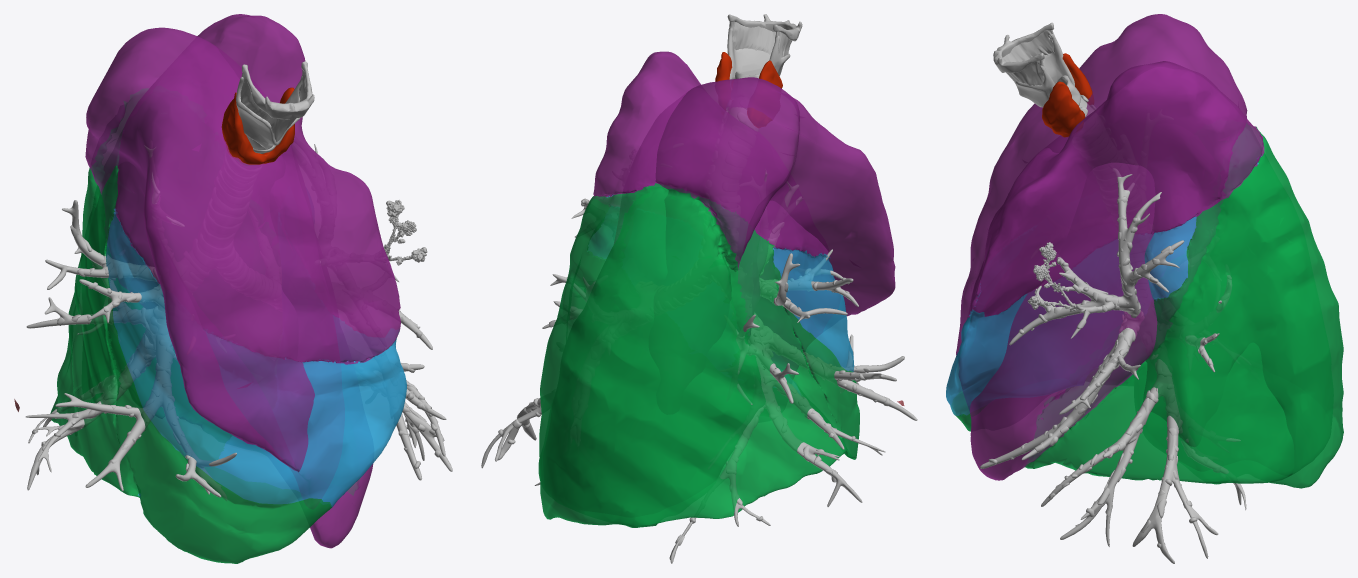
Rendered from inside-final.glb.
3 views of the same model, side by side, from view 1: azimuth 30°, elevation 25°; view 2: azimuth 150°, elevation 25°; view 3: azimuth 270°, elevation 25° (orthographic). The views are drawn at different scales.
Parts seen in each view (by area): view 1: Linkerlong2, Linkerlong1, Hyoid_bone; view 2: Linkerlong2, Linkerlong1, Hyoid_bone; view 3: Linkerlong1, Linkerlong2, Hyoid_bone.
Part boxes in pixels (<box>): Linkerlong2: <box>50,14,406,563</box>; Linkerlong1: <box>81,27,373,548</box>; Hyoid_bone: <box>14,61,452,500</box>; Linkerlong2: <box>539,51,859,526</box>; Linkerlong1: <box>538,77,895,527</box>; Hyoid_bone: <box>481,14,917,563</box>; Linkerlong1: <box>956,14,1333,483</box>; Linkerlong2: <box>946,61,1343,488</box>; Hyoid_bone: <box>980,22,1246,563</box>.
Bounding box in the file's own units: 85143 × 93460 × 77098.
2 materials, 2 textured.
